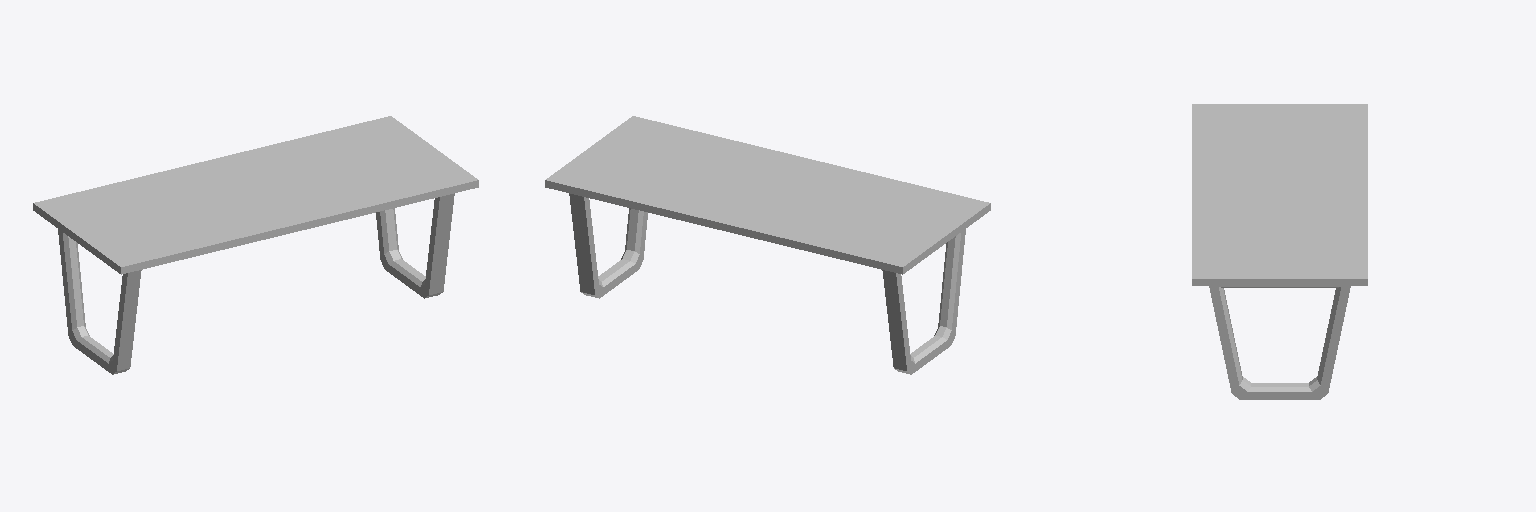
The model's file is SM_EscritorioC.obj.
3 views of the same model, side by side, from view 1: azimuth 30°, elevation 25°; view 2: azimuth 150°, elevation 25°; view 3: azimuth 270°, elevation 25° (orthographic).
Parts seen in each view (by area): view 1: EscritorioC; view 2: EscritorioC; view 3: EscritorioC.
Part boxes in pixels (bbox=[...]): EscritorioC: bbox=[33, 116, 478, 374]; EscritorioC: bbox=[545, 116, 990, 374]; EscritorioC: bbox=[1192, 104, 1367, 399].
Bounding box in the file's own units: 15.7 × 5.4 × 6.68.